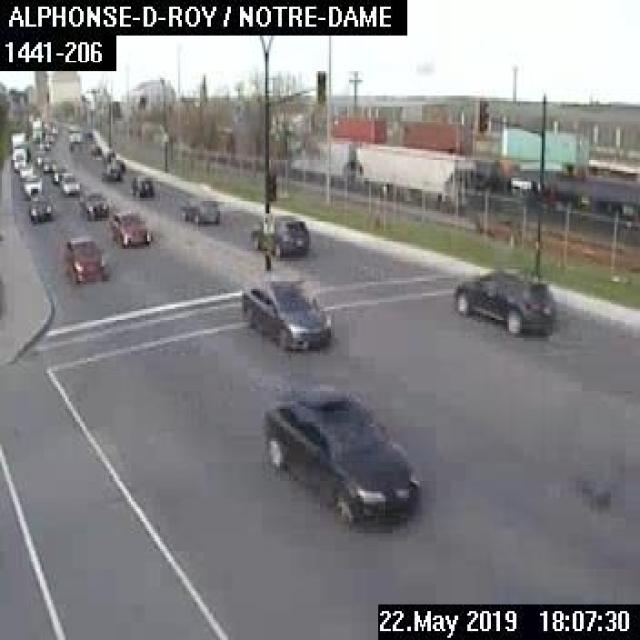vehicle: (258, 382, 424, 534), (238, 269, 335, 355), (451, 264, 556, 336), (249, 211, 311, 258), (58, 233, 107, 287), (110, 207, 154, 251), (173, 191, 220, 227), (75, 186, 110, 218), (26, 193, 57, 224), (129, 170, 156, 198), (58, 169, 82, 196), (99, 156, 123, 182), (20, 172, 41, 195), (50, 163, 69, 184), (16, 162, 36, 179), (41, 155, 58, 173)
